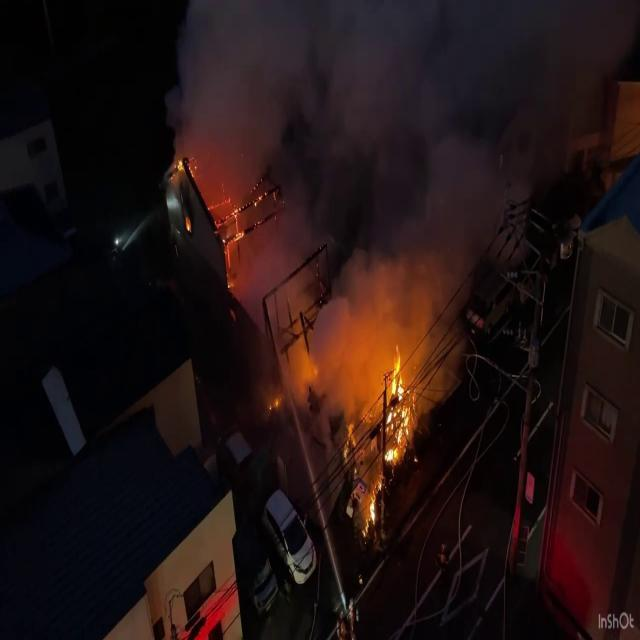Fire: (350, 342, 416, 530)
Smoke: (166, 0, 538, 393)
